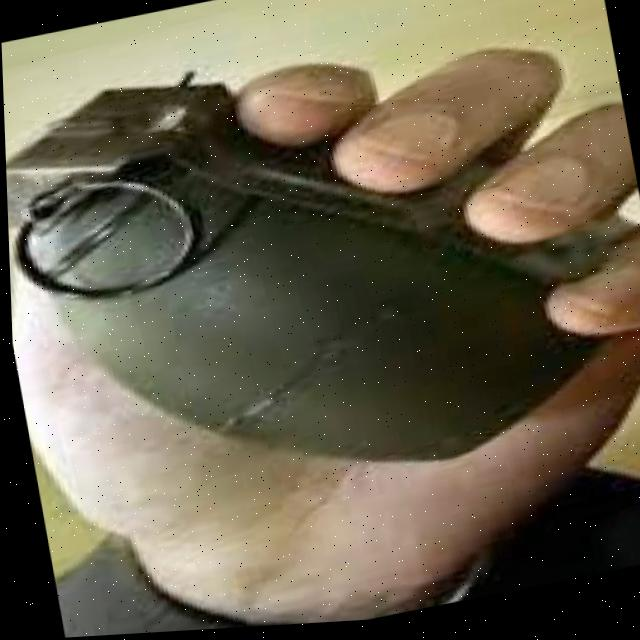grenade: (1, 0, 640, 566)
